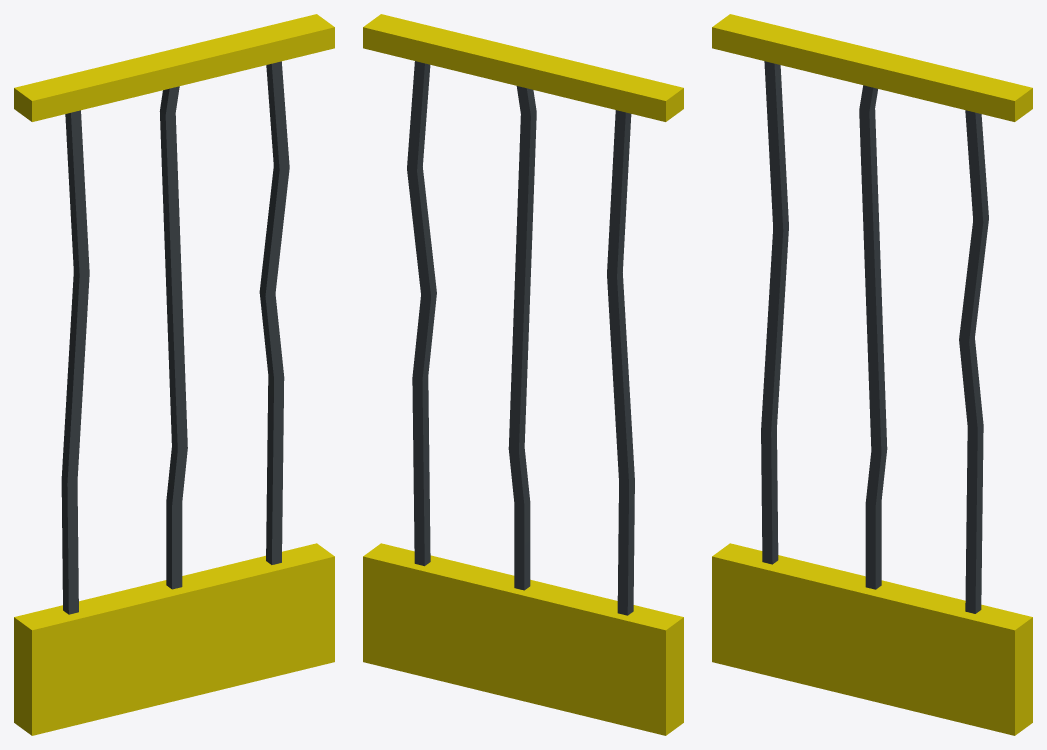
File: BarWall_150x300.fbx
The picture shows the model from 3 angles, left to right: view 1: azimuth 30°, elevation 25°; view 2: azimuth 150°, elevation 25°; view 3: azimuth 330°, elevation 25°; orthographic projection.
Parts seen in each view (by area): view 1: SeethroughWall_150x300; view 2: SeethroughWall_150x300; view 3: SeethroughWall_150x300.
Part boxes in pixels (x1,y1,x2,y2): SeethroughWall_150x300: (14,14,334,735); SeethroughWall_150x300: (363,14,683,735); SeethroughWall_150x300: (712,14,1032,735).
Bounding box in the file's own units: 150 × 301 × 15.5.
